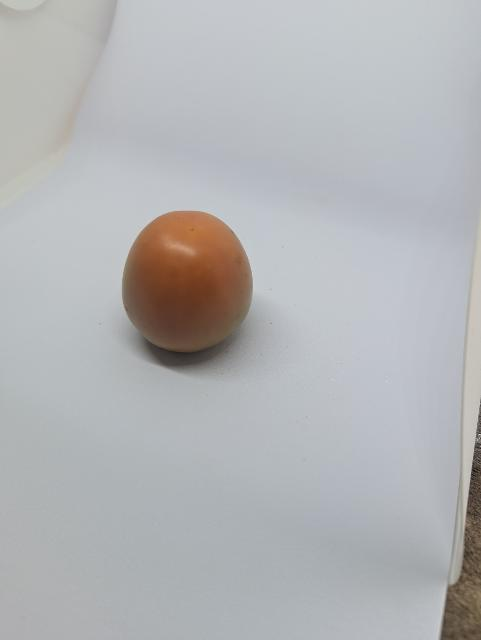turning: (119, 202, 258, 365)
